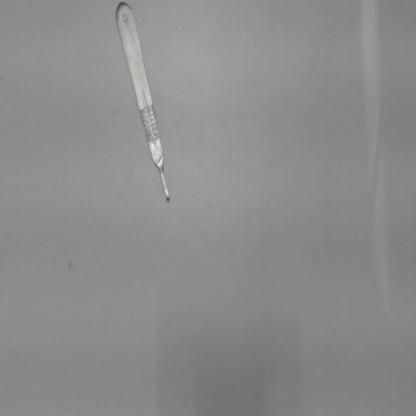No.3 BP Handle: (104, 3, 182, 216)
